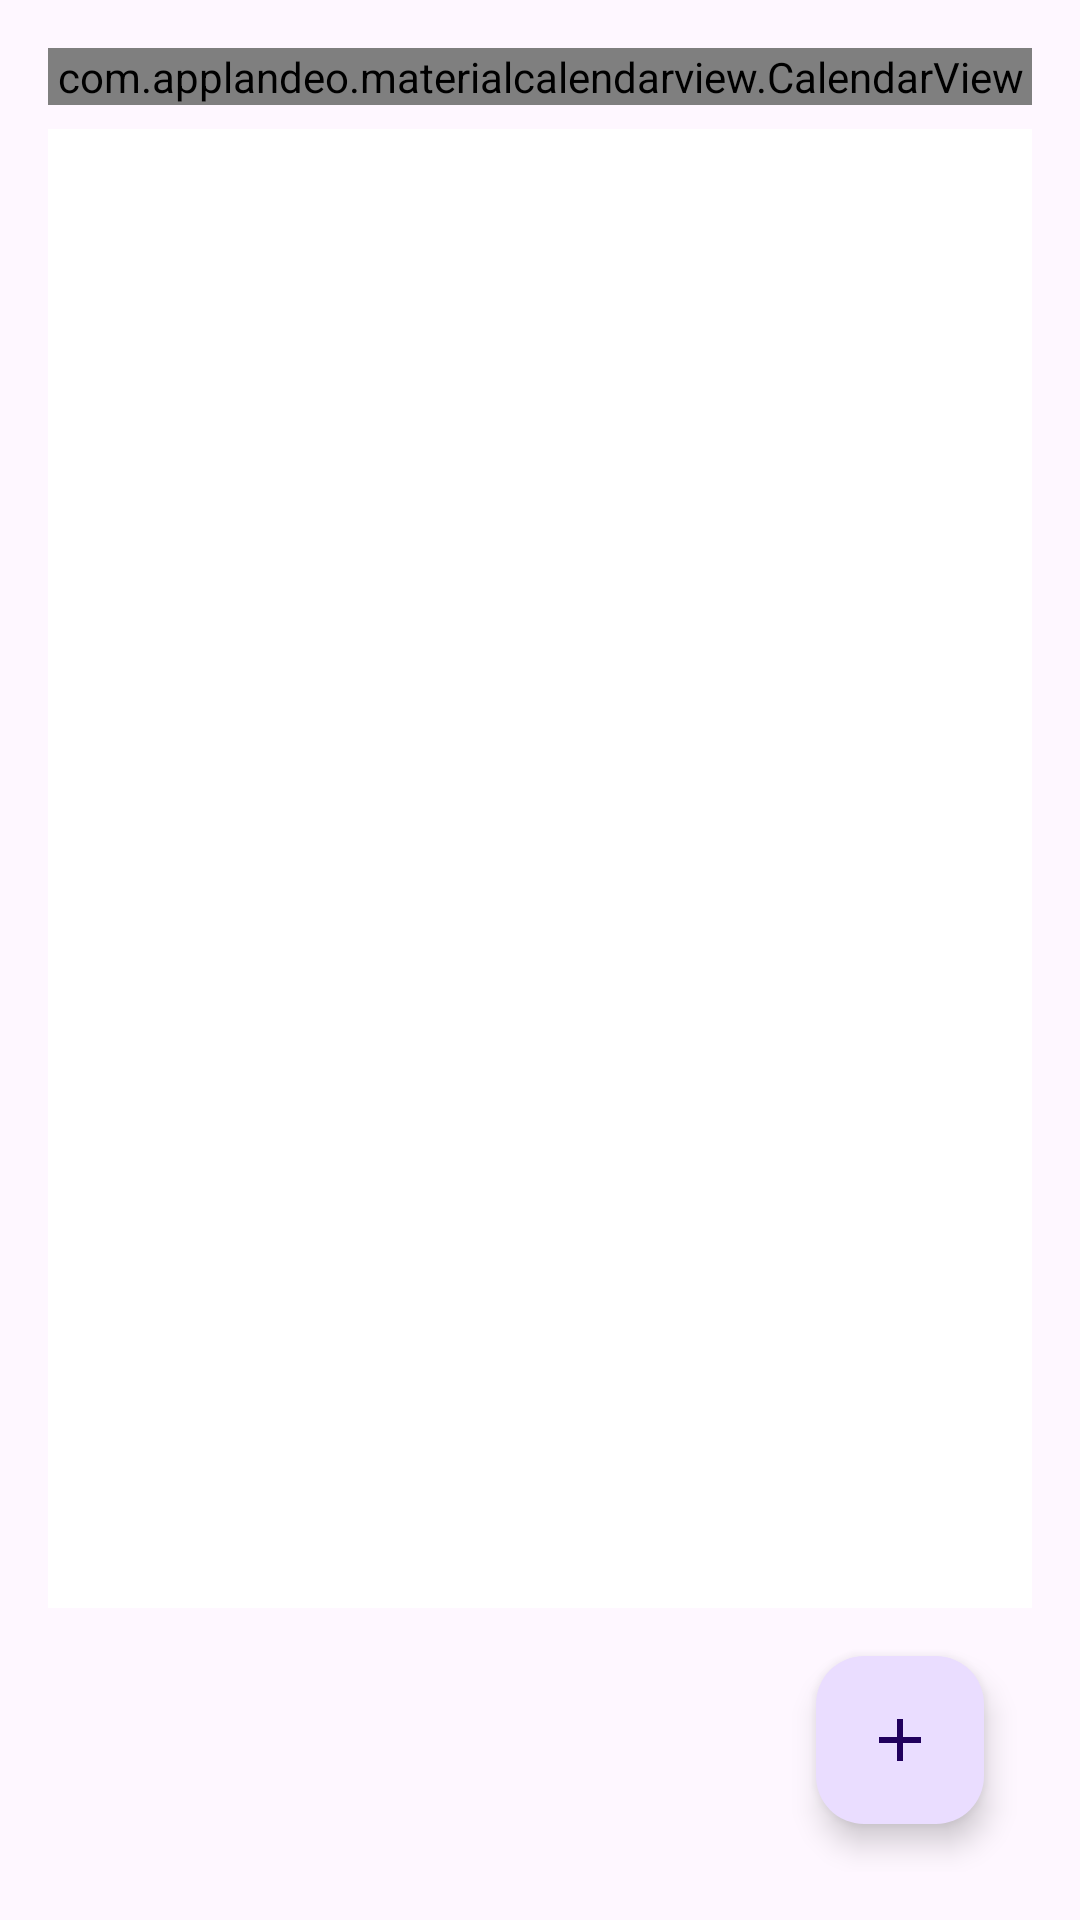

Icon click points for this 1080 × 1920 phone screenshot, format (x,y):
Ajouter un événement: (900,1740)
